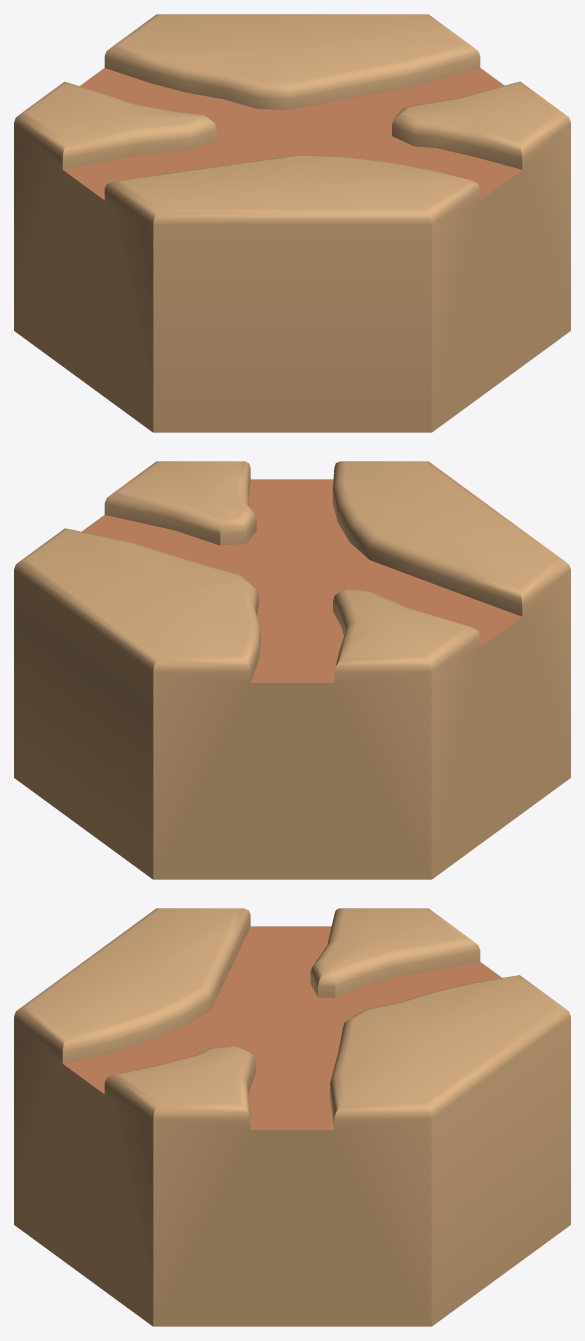
The model's file is hex_sand_roadJ.glb.
3 renders of one model, top to bottom at view 1: azimuth 30°, elevation 25°; view 2: azimuth 150°, elevation 25°; view 3: azimuth 270°, elevation 25°, orthographic.
Visible parts, largest first — view 1: hex_sand_roadJ; view 2: hex_sand_roadJ; view 3: hex_sand_roadJ.
Part boxes in pixels (bbox=[...]): hex_sand_roadJ: bbox=[14, 14, 570, 432]; hex_sand_roadJ: bbox=[14, 461, 570, 879]; hex_sand_roadJ: bbox=[14, 908, 570, 1326].
Size of the model in its own units: 2.4 by 1.2 by 2.77.
